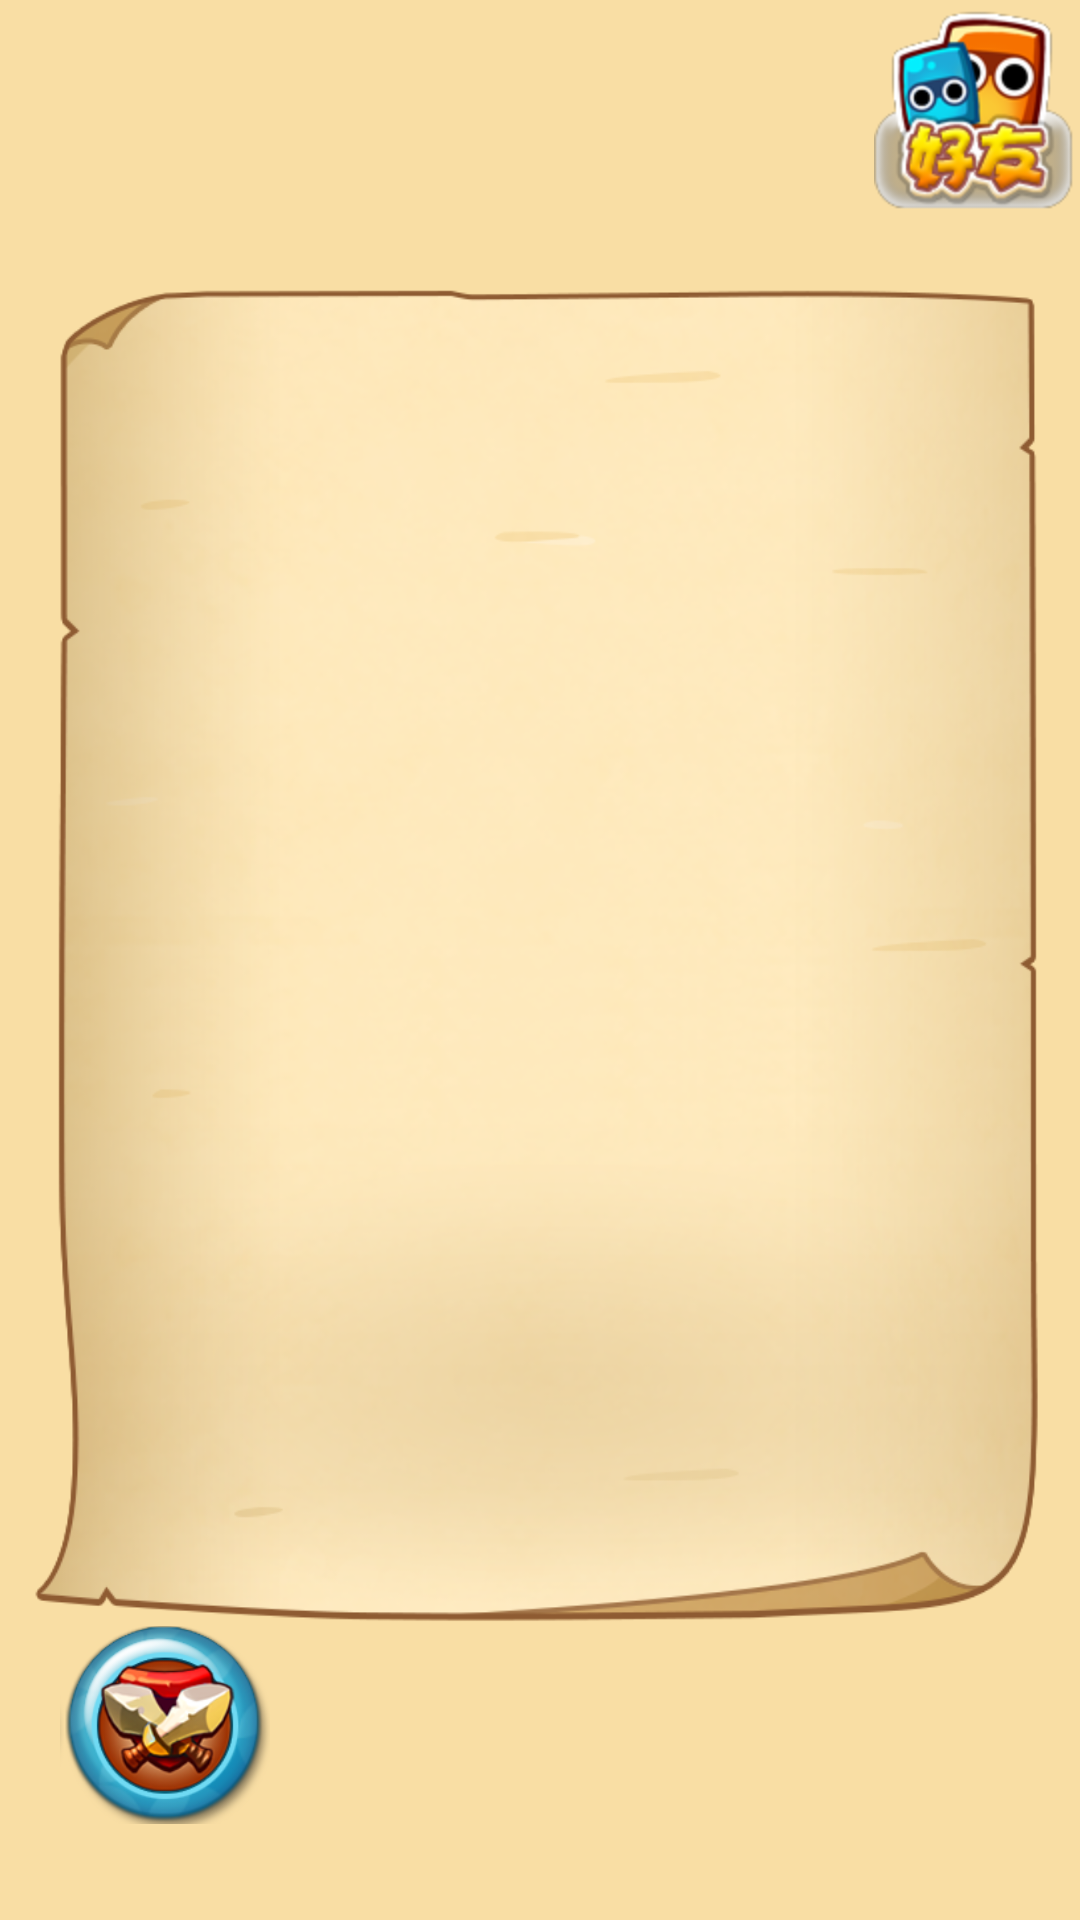

Icons on this 1080*1920 Android screen, each with its box as detection(x1, y1, x2, y2):
add friend: detection(874, 12, 1072, 208)
